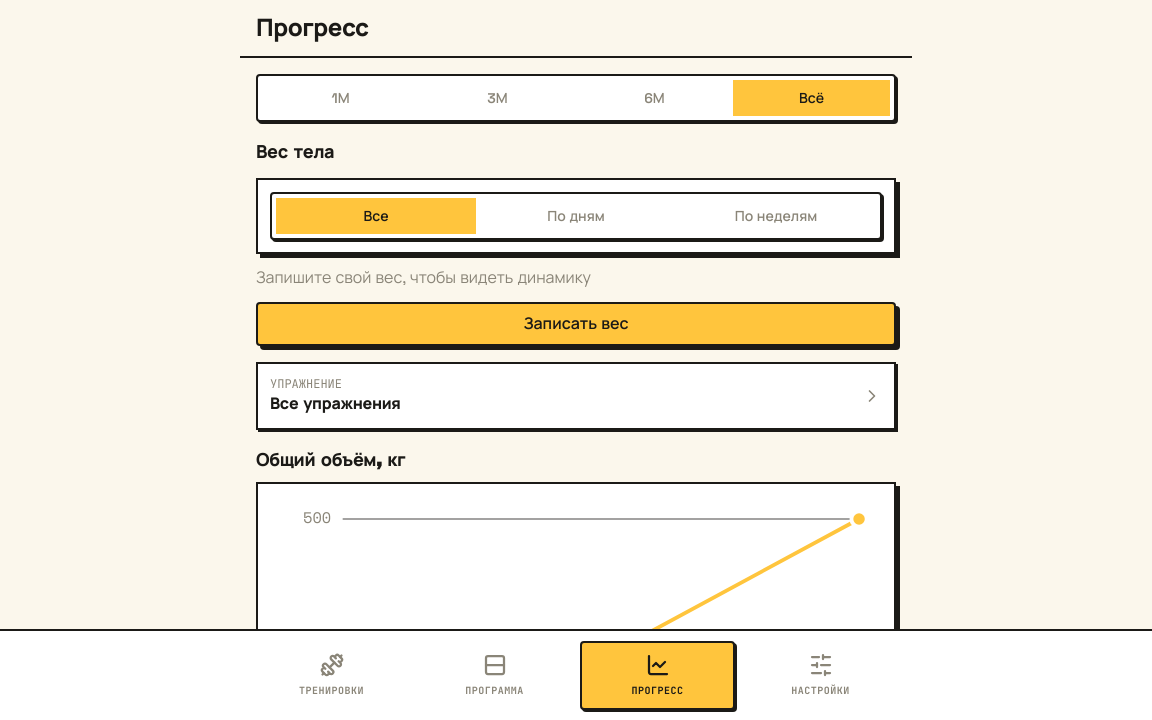
Test: Progress tab › filters to only the Duration chart for a duration exercise
The width and height of the screenshot is (1152, 720).
Click the button "Упражнение Все упражнения" at (306, 384), box [256,362,896,430]
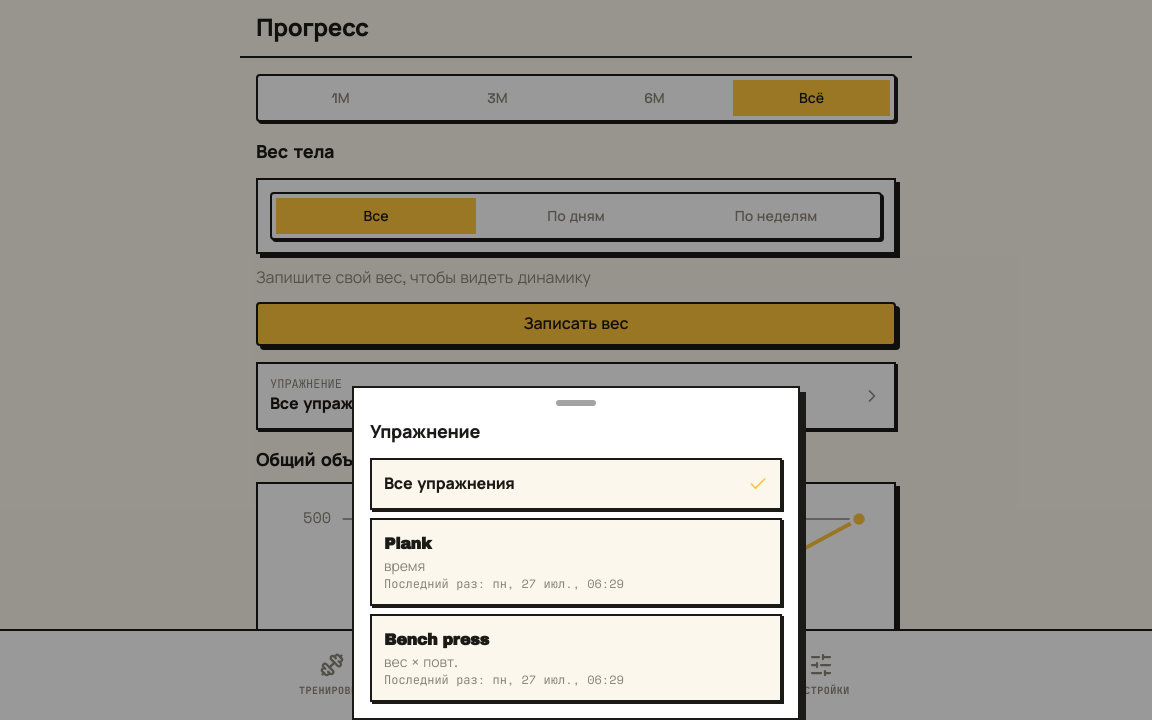
Click the button "Plank" at (408, 544), box [370,518,782,606]
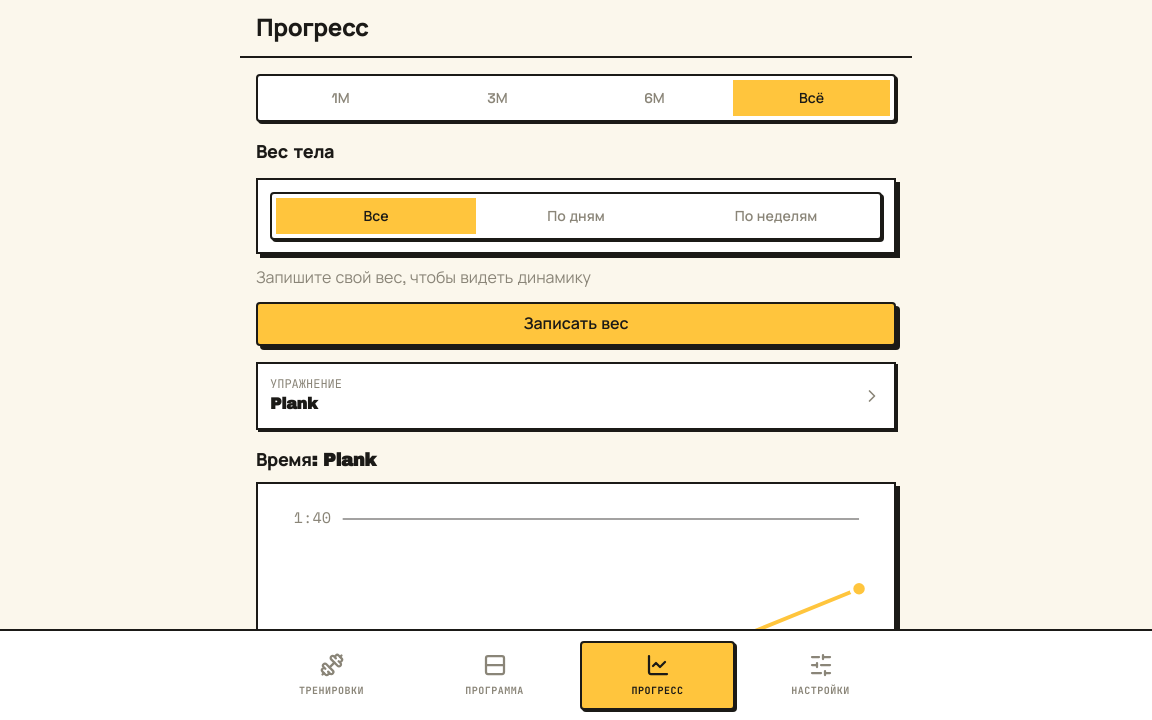
Expected: the heading "Время: Plank" is shown, [256,450,376,470]
Expected: the heading "Общий объём" is gone
